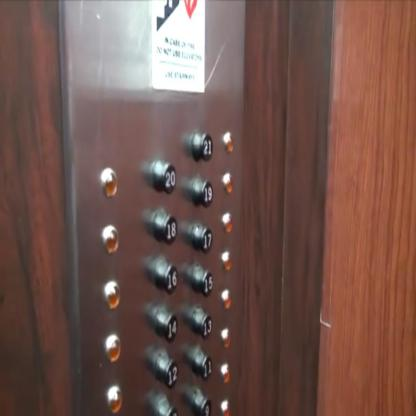11: (190, 349, 214, 378)
12: (153, 353, 178, 390)
13: (190, 305, 214, 339)
14: (153, 306, 179, 343)
15: (189, 262, 213, 299)
16: (152, 257, 180, 293)
17: (190, 223, 213, 254)
18: (154, 208, 178, 245)
19: (190, 178, 214, 208)
20: (150, 157, 178, 196)
21: (190, 131, 213, 163)
indicator: (99, 166, 118, 200), (105, 382, 122, 416), (102, 223, 119, 253), (103, 278, 120, 308), (103, 332, 120, 362), (220, 172, 235, 195), (223, 130, 234, 156), (220, 211, 233, 233), (220, 250, 233, 272), (220, 325, 232, 347), (219, 362, 230, 384), (219, 396, 230, 416), (221, 289, 231, 309)
